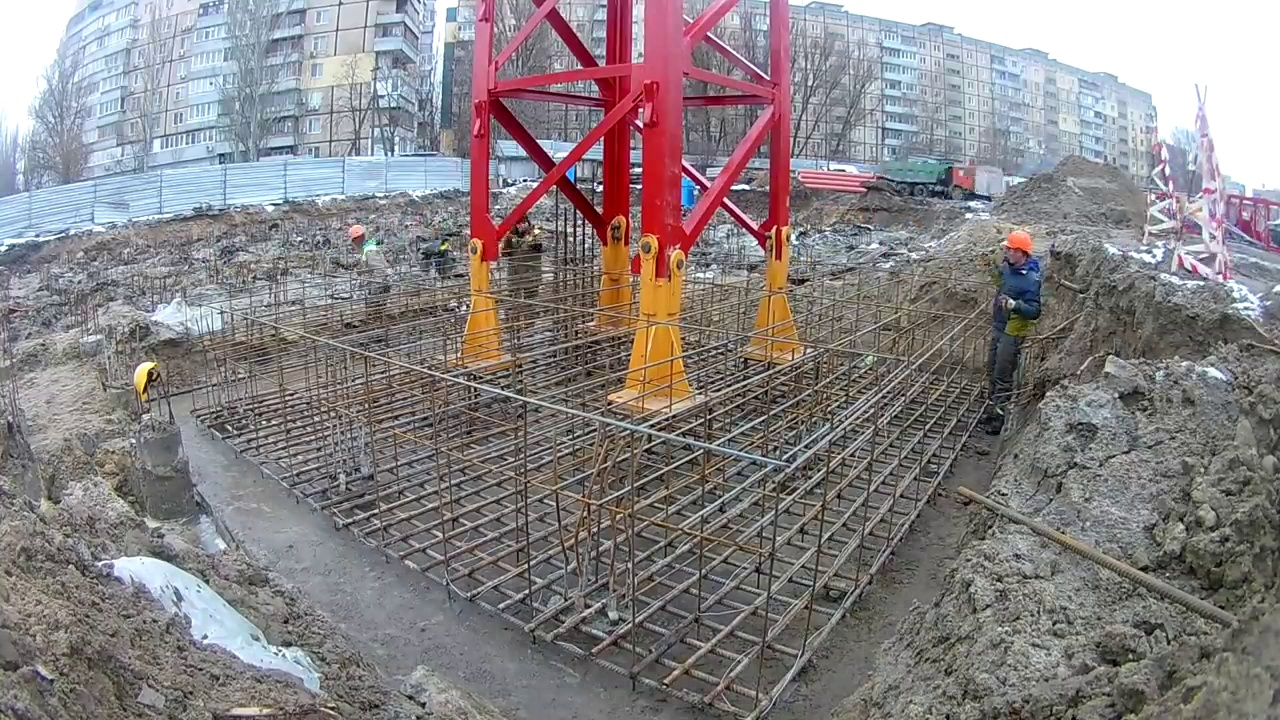helmet: (132, 360, 158, 405), (1002, 232, 1033, 255), (350, 228, 365, 243)
helmet-off: (511, 212, 532, 239)
helmet-on: (1001, 232, 1034, 270), (348, 228, 368, 248)
person: (979, 232, 1043, 439), (504, 212, 541, 337), (345, 221, 391, 284)
